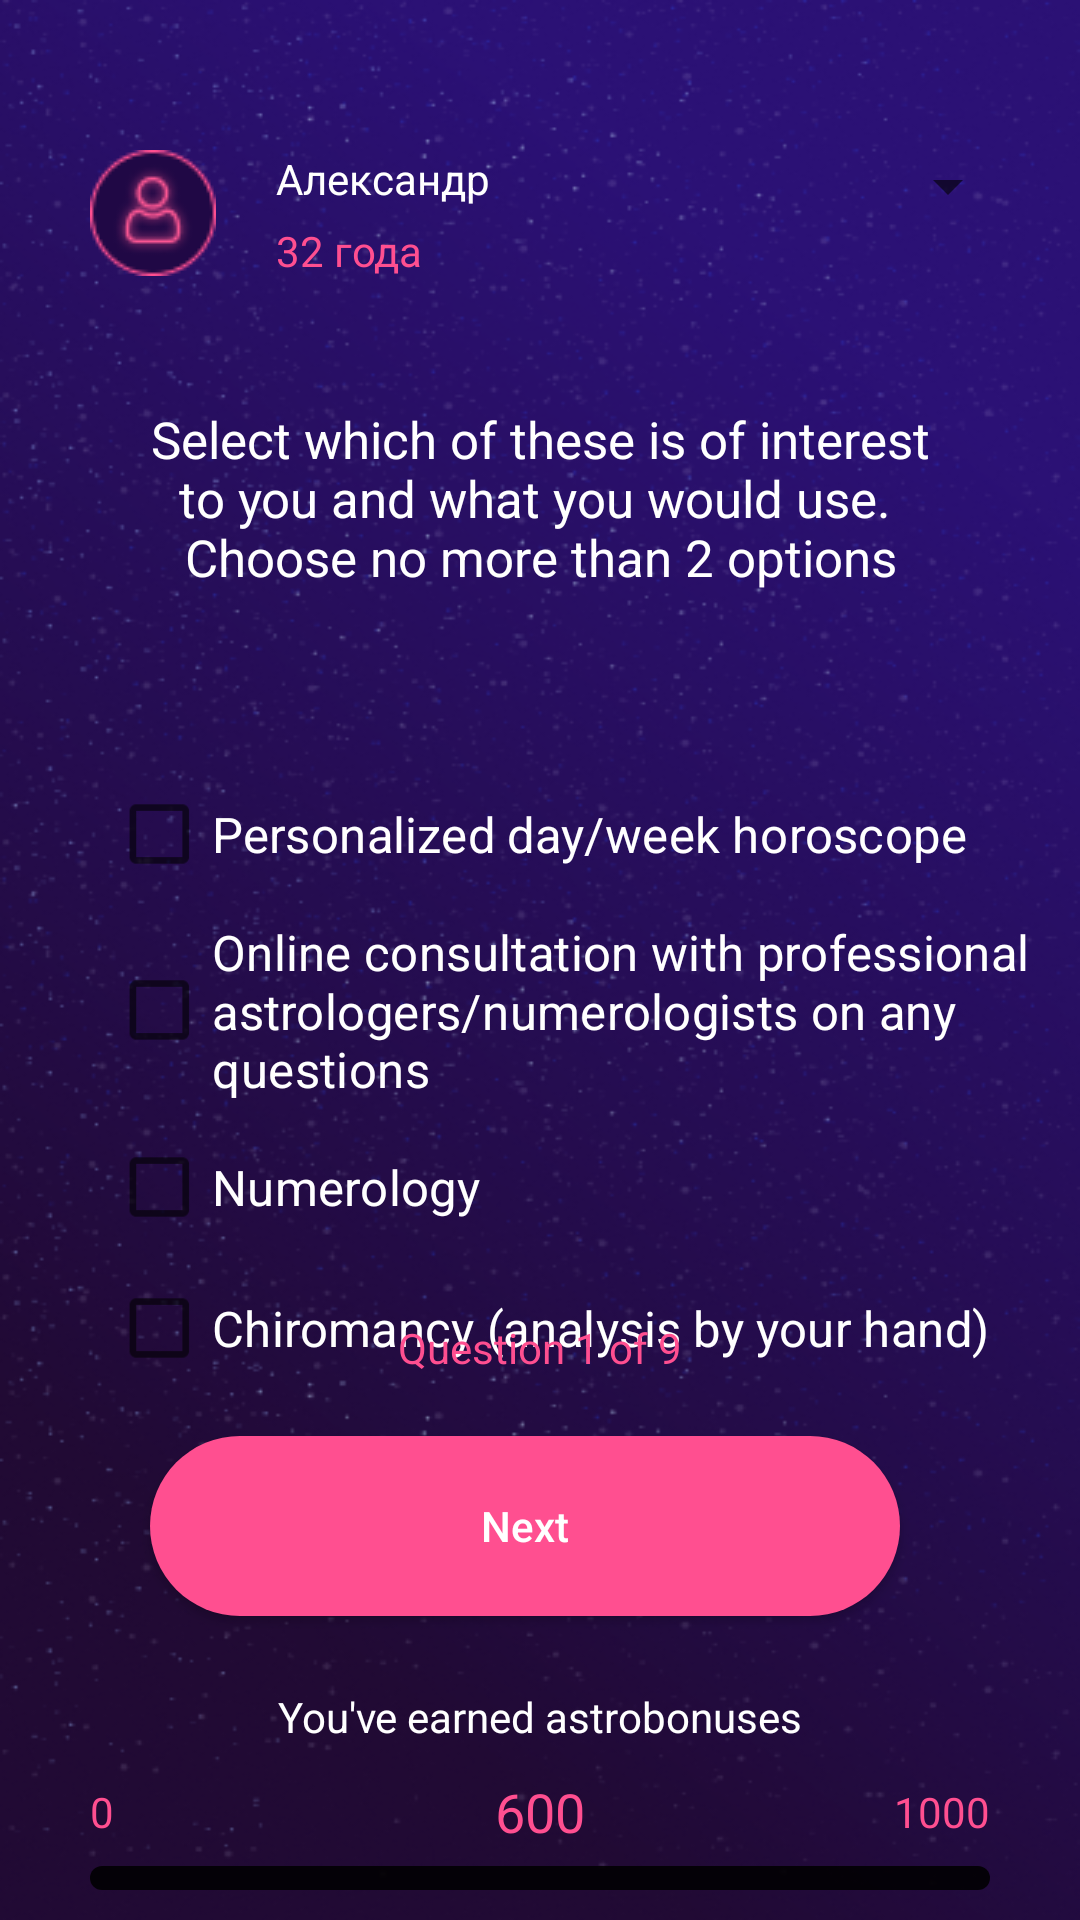

Icons on this 1080px×1920px Android screen, each with the point to tap as [x,y]:
user: [153,213]
